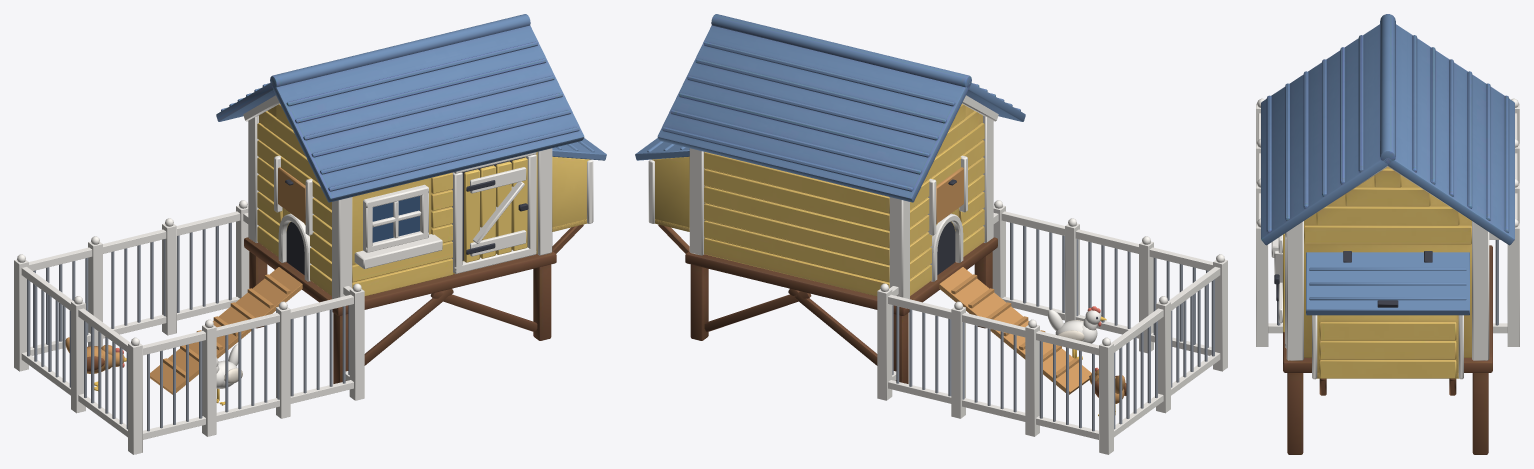
File: kandang_weld.glb
The picture shows the model from 3 angles, left to right: view 1: azimuth 30°, elevation 25°; view 2: azimuth 150°, elevation 25°; view 3: azimuth 270°, elevation 25°; orthographic projection. The views are drawn at different scales.
Parts seen in each view (by area): view 1: chicken-coop_body, chicken-coop_run, chicken-coop_details, chicken-coop_run_wire, chicken-coop_door, chicken-coop_nest_lid; view 2: chicken-coop_body, chicken-coop_run, chicken-coop_run_wire, chicken-coop_details, chicken-coop_nest_lid; view 3: chicken-coop_body, chicken-coop_nest_lid, chicken-coop_details, chicken-coop_run, chicken-coop_door, chicken-coop_run_wire.
Part boxes in pixels (<box>): chicken-coop_body: <box>216,14,589,383</box>; chicken-coop_run: <box>14,200,364,454</box>; chicken-coop_details: <box>243,95,593,298</box>; chicken-coop_run_wire: <box>27,222,349,431</box>; chicken-coop_door: <box>464,157,528,262</box>; chicken-coop_nest_lid: <box>552,138,606,160</box>; chicken-coop_body: <box>652,14,1025,383</box>; chicken-coop_run: <box>877,200,1227,454</box>; chicken-coop_run_wire: <box>892,222,1214,431</box>; chicken-coop_details: <box>648,95,998,298</box>; chicken-coop_nest_lid: <box>635,138,689,160</box>; chicken-coop_body: <box>1261,14,1514,454</box>; chicken-coop_nest_lid: <box>1306,251,1469,315</box>; chicken-coop_details: <box>1271,166,1489,395</box>; chicken-coop_run: <box>1256,98,1519,346</box>; chicken-coop_door: <box>1274,233,1284,332</box>; chicken-coop_run_wire: <box>1277,240,1498,325</box>.
Size of the model in its own units: 3.62 by 2 by 1.51.
18 materials, 1 textured.
